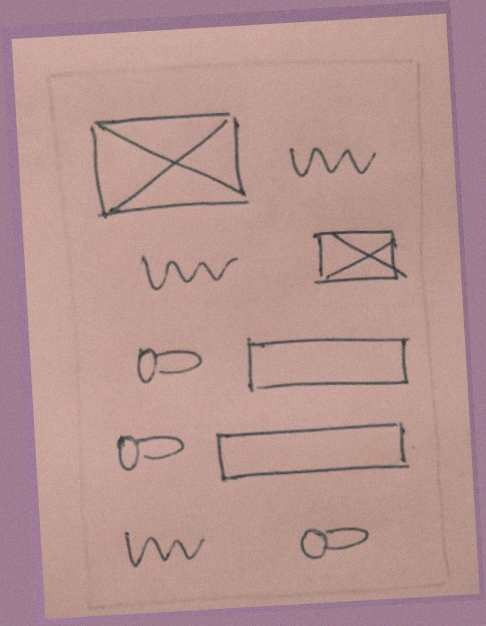image: (81, 102, 257, 232), (304, 215, 414, 303)
switch: (120, 330, 211, 396), (109, 424, 200, 490), (289, 505, 379, 571)
text: (125, 237, 246, 303), (280, 126, 381, 195), (113, 514, 218, 578)
text_input: (206, 406, 420, 491), (237, 320, 418, 403)
